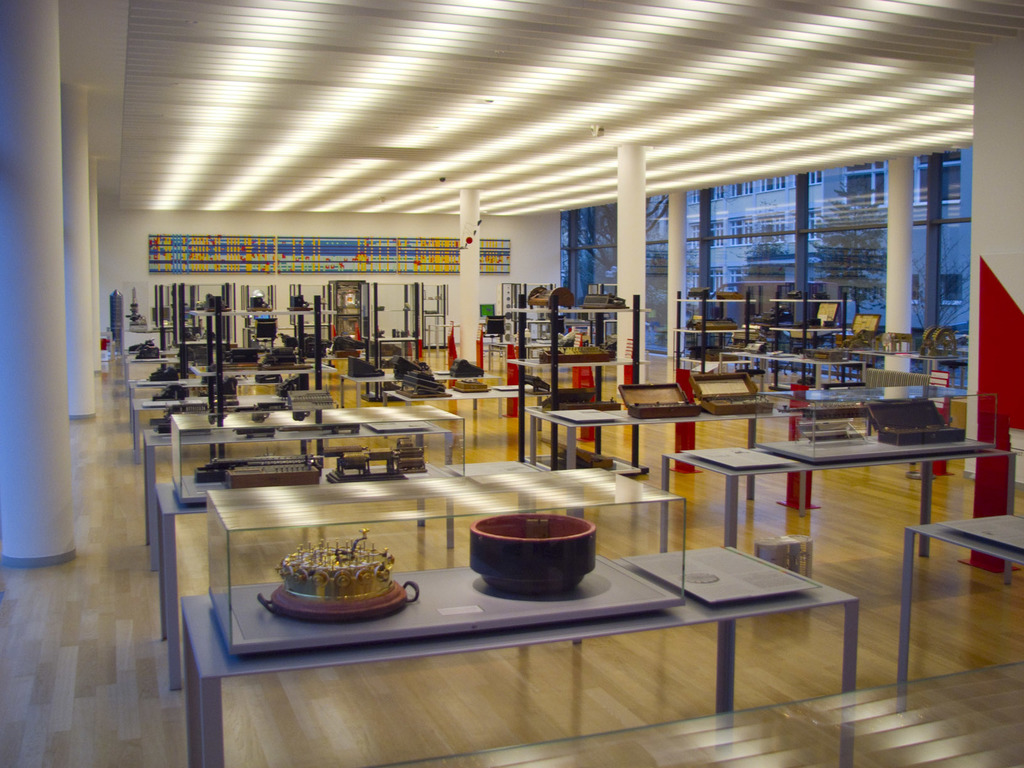cake: (280, 546, 395, 600)
